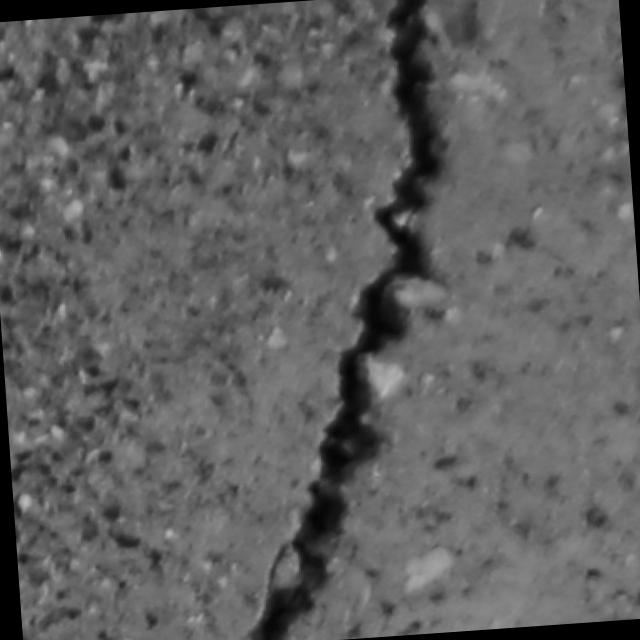crack: (186, 0, 486, 640)
